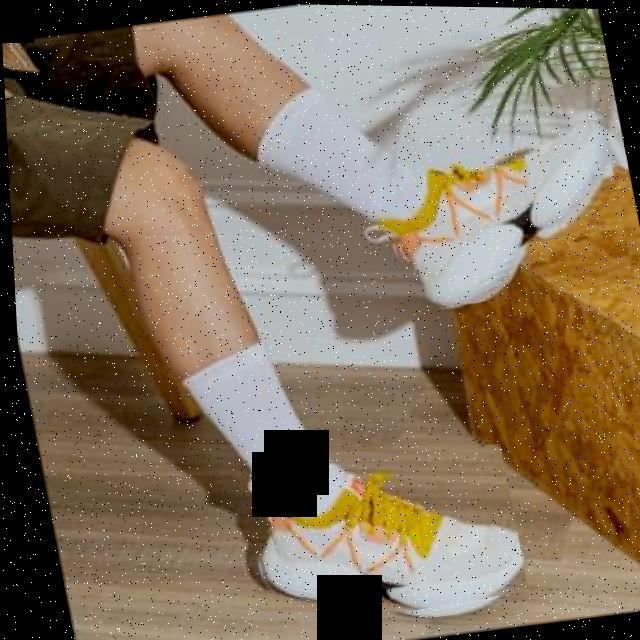shoe: (232, 439, 526, 637), (367, 104, 633, 314)
